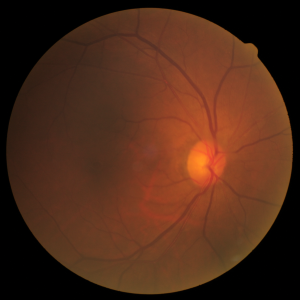cataract: (61, 108, 267, 225)
